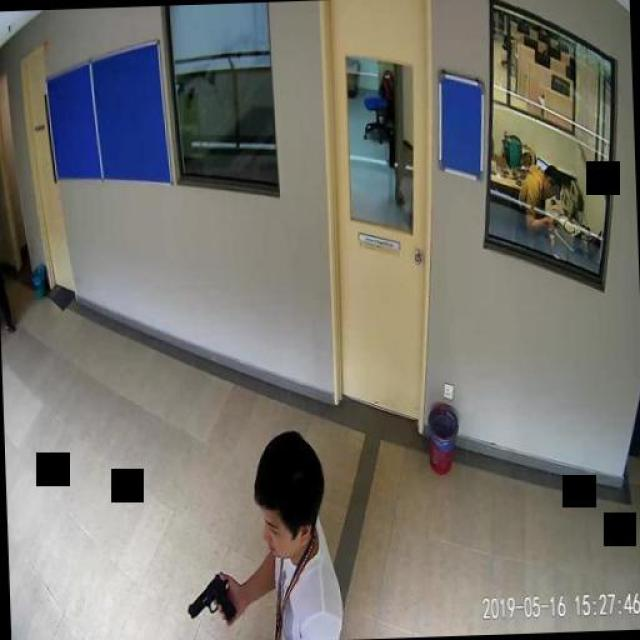gun: (185, 571, 234, 624)
